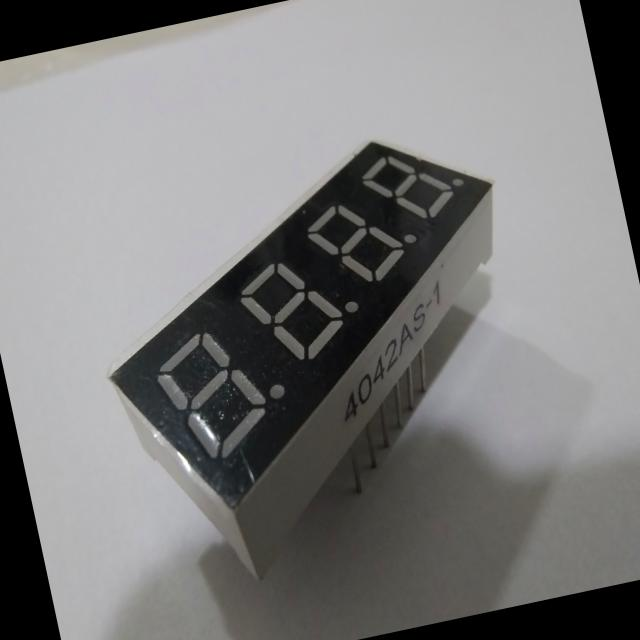7_segments_4_digits: (61, 108, 569, 604)
